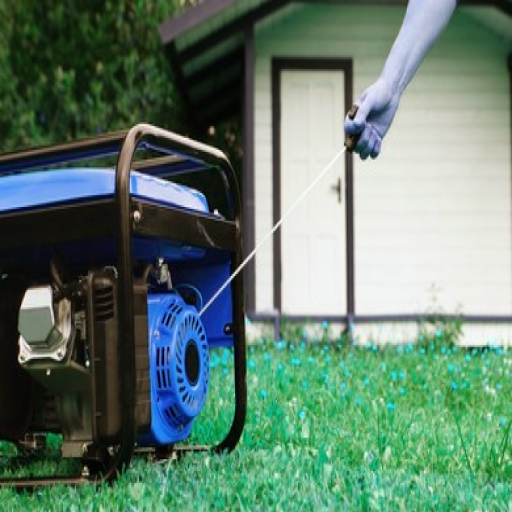portable_generator: (1, 122, 246, 483)
